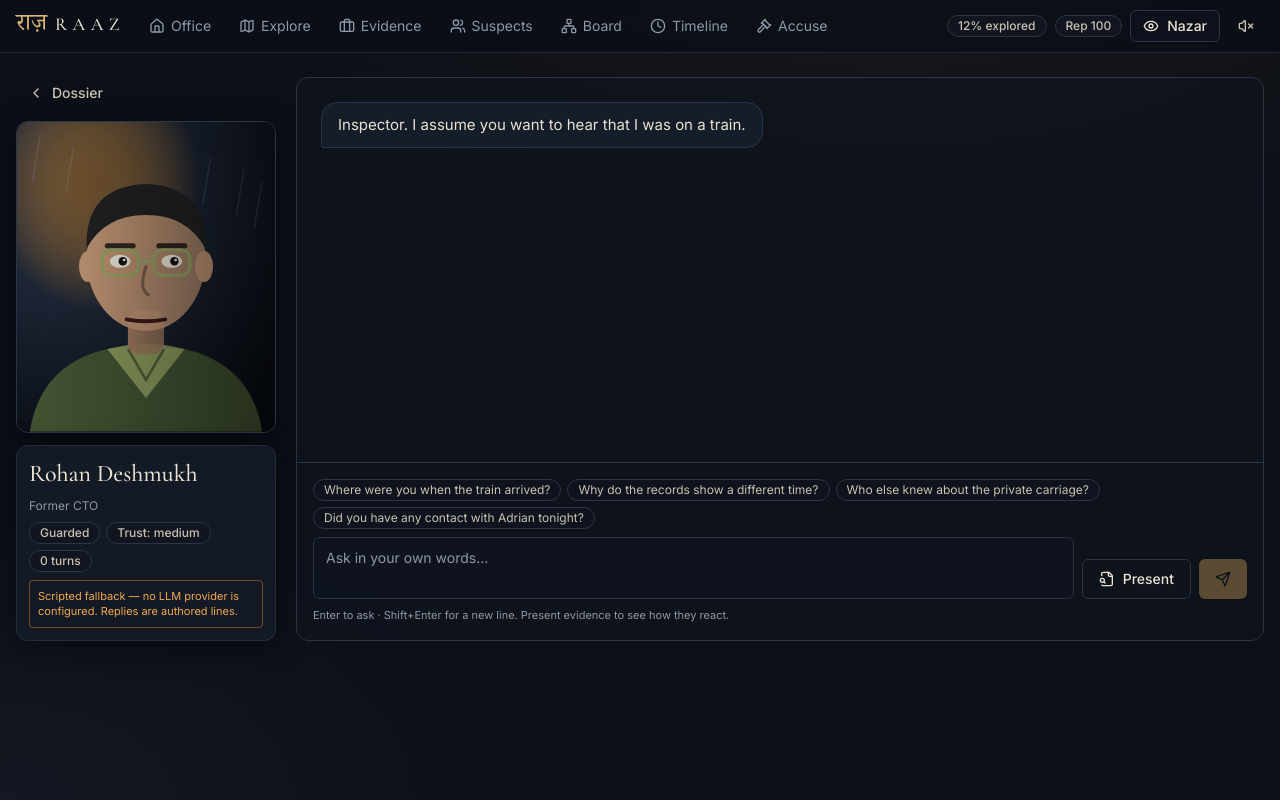
interrogation › asks a question in free text and shows the reply, mood and the honest fallback label
The image size is (1280, 800).
Expected: the text "Inspector. I assume you want to hear that I was on a train." is shown, top-left (338, 115), bottom-right (746, 134)
Expected: the text with test id "llm-label" shows "Scripted fallback", top-left (38, 589), bottom-right (239, 618)
Step 1. Type "Which train did you take?" into the text box named "Your question" → (693, 568), box top-left (313, 537), bottom-right (1074, 599)
Then press Enter
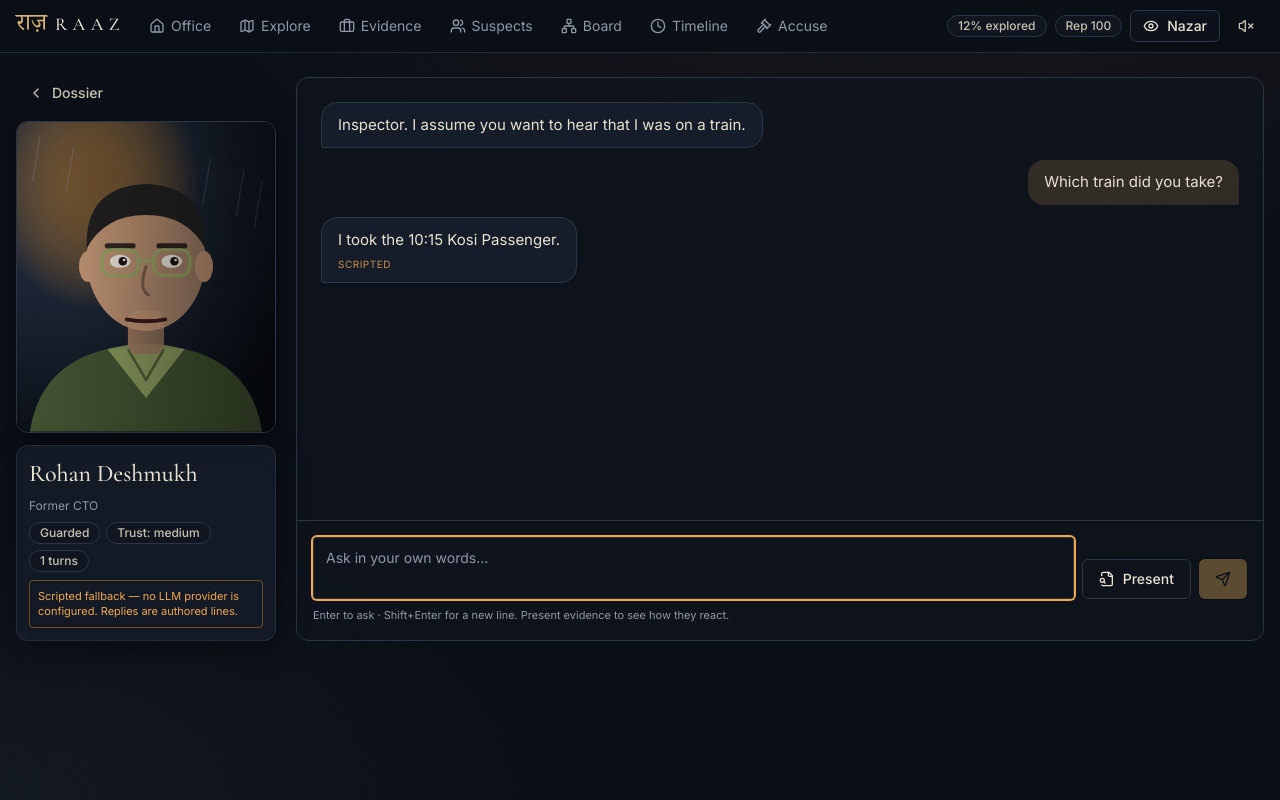
Expected: the text "I took the 10:15 Kosi Passenger." is shown, top-left (338, 230), bottom-right (560, 249)
Expected: the text "Which train did you take?" is shown, top-left (1028, 160), bottom-right (1239, 205)
